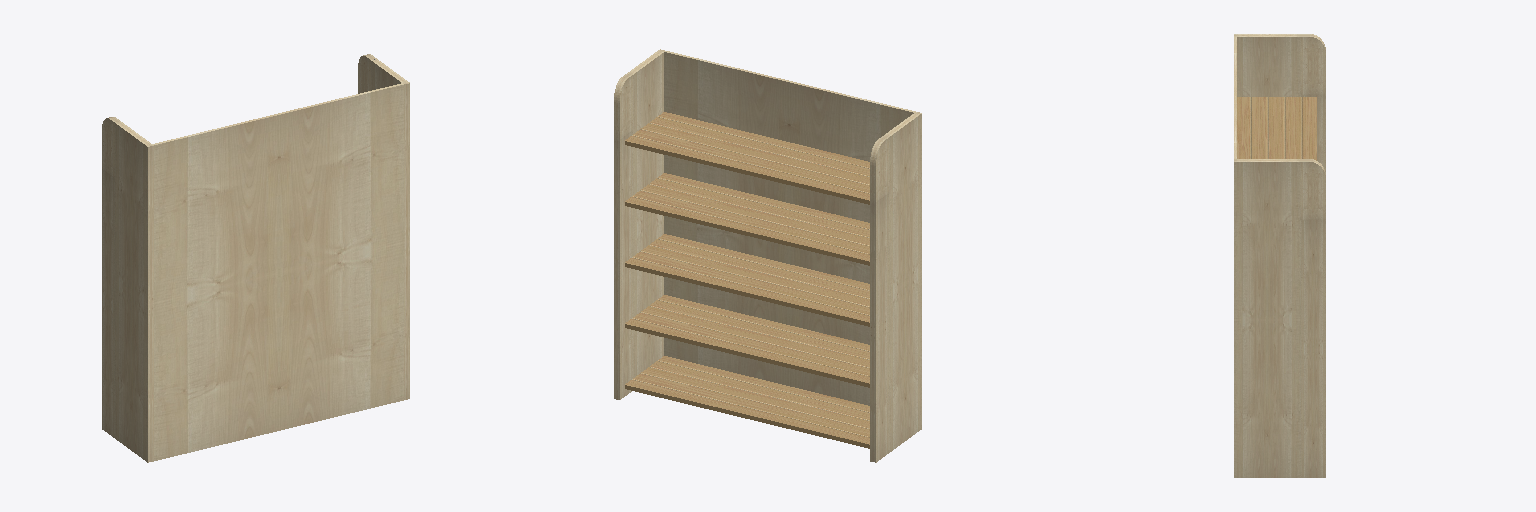
3 renders of one model, left to right at view 1: azimuth 30°, elevation 25°; view 2: azimuth 150°, elevation 25°; view 3: azimuth 270°, elevation 25°, orthographic.
Visible parts, largest first — view 1: Repisas:pCube21; view 2: Repisas:pCube21; view 3: Repisas:pCube21.
Part boxes in pixels (x1,y1,x2,y2): Repisas:pCube21: (102, 54, 409, 462); Repisas:pCube21: (614, 49, 921, 462); Repisas:pCube21: (1234, 34, 1325, 477).
Size of the model in its own units: 7.71 by 8.87 by 2.36.
4 materials, 3 textured.